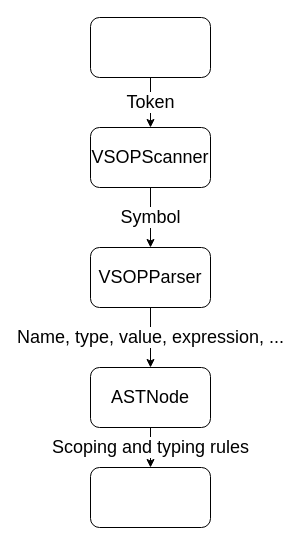
Image size: 301x545. Some labels were removed from this diagram. The box of each missing label's shape, as (x1, y1, x2, y2) in pixels:
Next section: (90, 466, 210, 528)
VSOPLexer: (90, 16, 210, 78)
